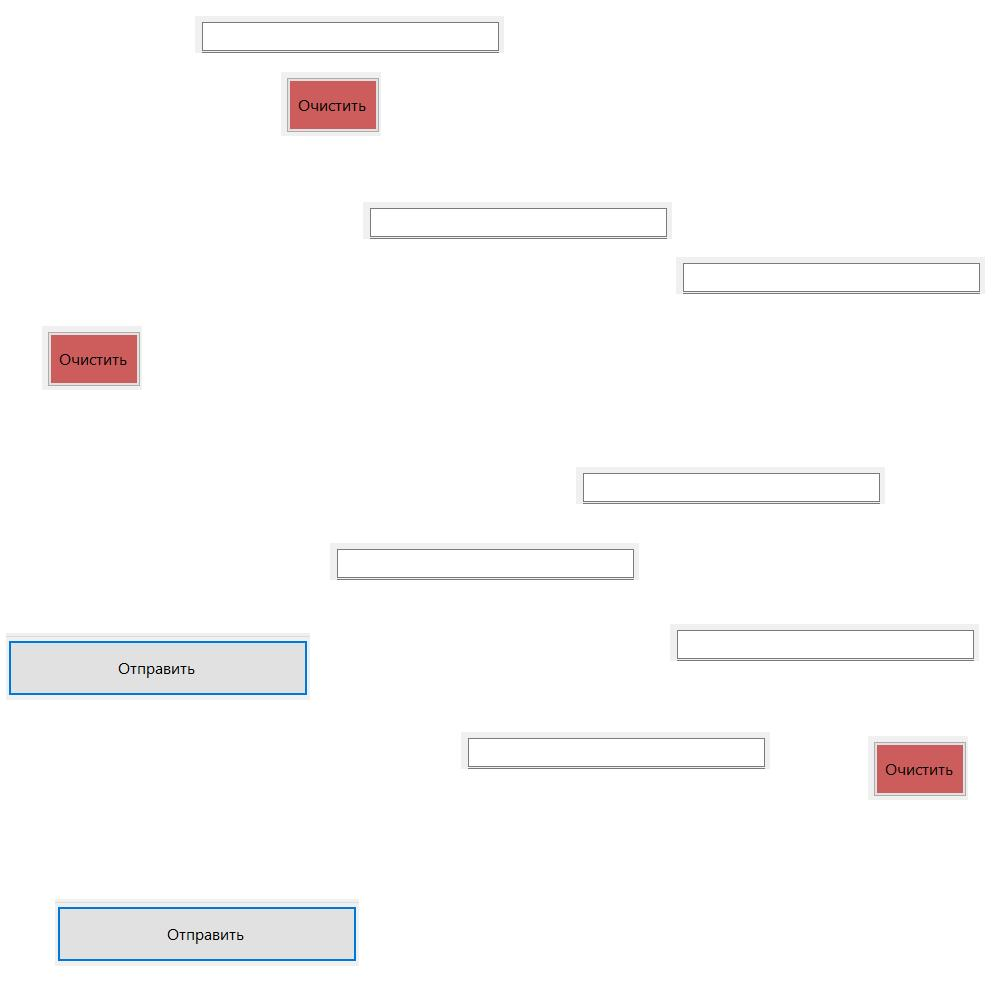Button: (6, 633, 310, 700), (55, 899, 359, 966), (42, 326, 142, 390), (868, 736, 968, 800), (281, 72, 381, 136)
EditText-: (576, 467, 885, 504), (195, 16, 504, 53), (461, 732, 770, 769), (330, 543, 639, 580), (363, 202, 672, 239), (676, 257, 985, 294), (670, 624, 979, 661)
